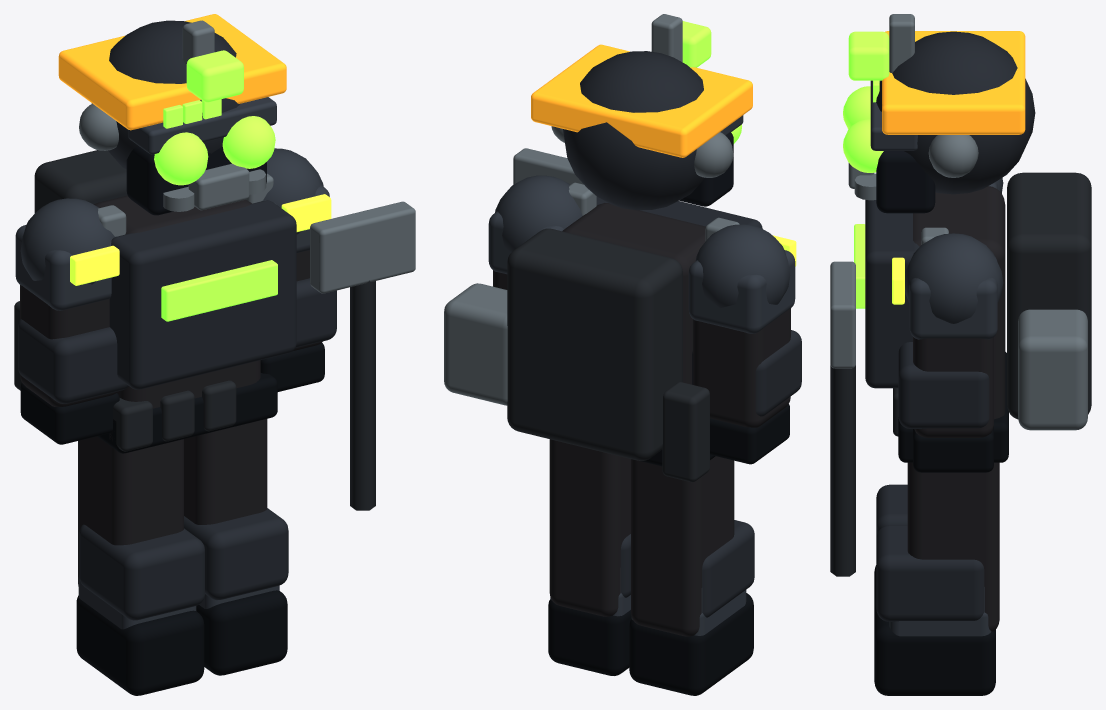
The model's file is engineer_l03.glb.
3 views of the same model, side by side, from view 1: azimuth 30°, elevation 25°; view 2: azimuth 150°, elevation 25°; view 3: azimuth 270°, elevation 25° (orthographic). The views are drawn at different scales.
Visible parts, largest first — view 1: segmented_vest, trouser (×2), shaped_knee_guard (×2), boot (×2), safety_helmet_band, forearm_plate (×2), axe_head, shoulder_joint (×2), axe_handle, glove (×2), rounded_helmet, dzn_chest_flash (+20 smaller); view 2: field_pack, trouser (×2), rounded_helmet, boot (×2), safety_helmet_band, shoulder_joint (×2), sleeve, repair_canister, body, shoulder_plate (×2), tool_roll, shaped_knee_guard (×2) (+10 smaller); view 3: field_pack, rounded_helmet, trouser, shaped_knee_guard (×2), repair_canister, safety_helmet_band, boot, segmented_vest, forearm_plate, shoulder_joint, body, axe_handle (+17 smaller).
Boxes of the visible parts, x1,y1,x2,y2 form: segmented_vest: [109, 200, 296, 389]; trouser (×2): [78, 419, 267, 586]; shaped_knee_guard (×2): [79, 508, 288, 620]; boot (×2): [76, 590, 287, 695]; safety_helmet_band: [58, 14, 286, 130]; forearm_plate (×2): [18, 278, 336, 403]; axe_head: [310, 201, 415, 293]; shoulder_joint (×2): [20, 148, 323, 284]; axe_handle: [350, 280, 375, 510]; glove (×2): [20, 343, 324, 444]; rounded_helmet: [91, 20, 240, 169]; dzn_chest_flash: [161, 260, 277, 321]; field_pack: [507, 228, 682, 460]; trouser (×2): [549, 439, 734, 636]; rounded_helmet: [563, 51, 720, 210]; boot (×2): [548, 593, 753, 695]; safety_helmet_band: [531, 44, 752, 157]; shoulder_joint (×2): [495, 175, 790, 307]; sleeve: [693, 308, 790, 427]; repair_canister: [444, 283, 507, 405]; body: [562, 203, 705, 384]; shoulder_plate (×2): [488, 211, 795, 333]; tool_roll: [662, 382, 709, 482]; shaped_knee_guard (×2): [620, 520, 754, 617]; field_pack: [1007, 172, 1091, 419]; rounded_helmet: [876, 31, 1035, 194]; trouser: [907, 462, 999, 631]; shaped_knee_guard (×2): [876, 484, 984, 621]; repair_canister: [1018, 309, 1087, 430]; safety_helmet_band: [882, 31, 1025, 134]; boot: [874, 606, 995, 695]; segmented_vest: [865, 200, 919, 388]; forearm_plate: [898, 342, 989, 428]; shoulder_joint: [905, 233, 1003, 323]; body: [913, 186, 1005, 419]; axe_handle: [830, 365, 855, 576].
Bounding box in the file's own units: 1.03 × 1.93 × 0.71.
